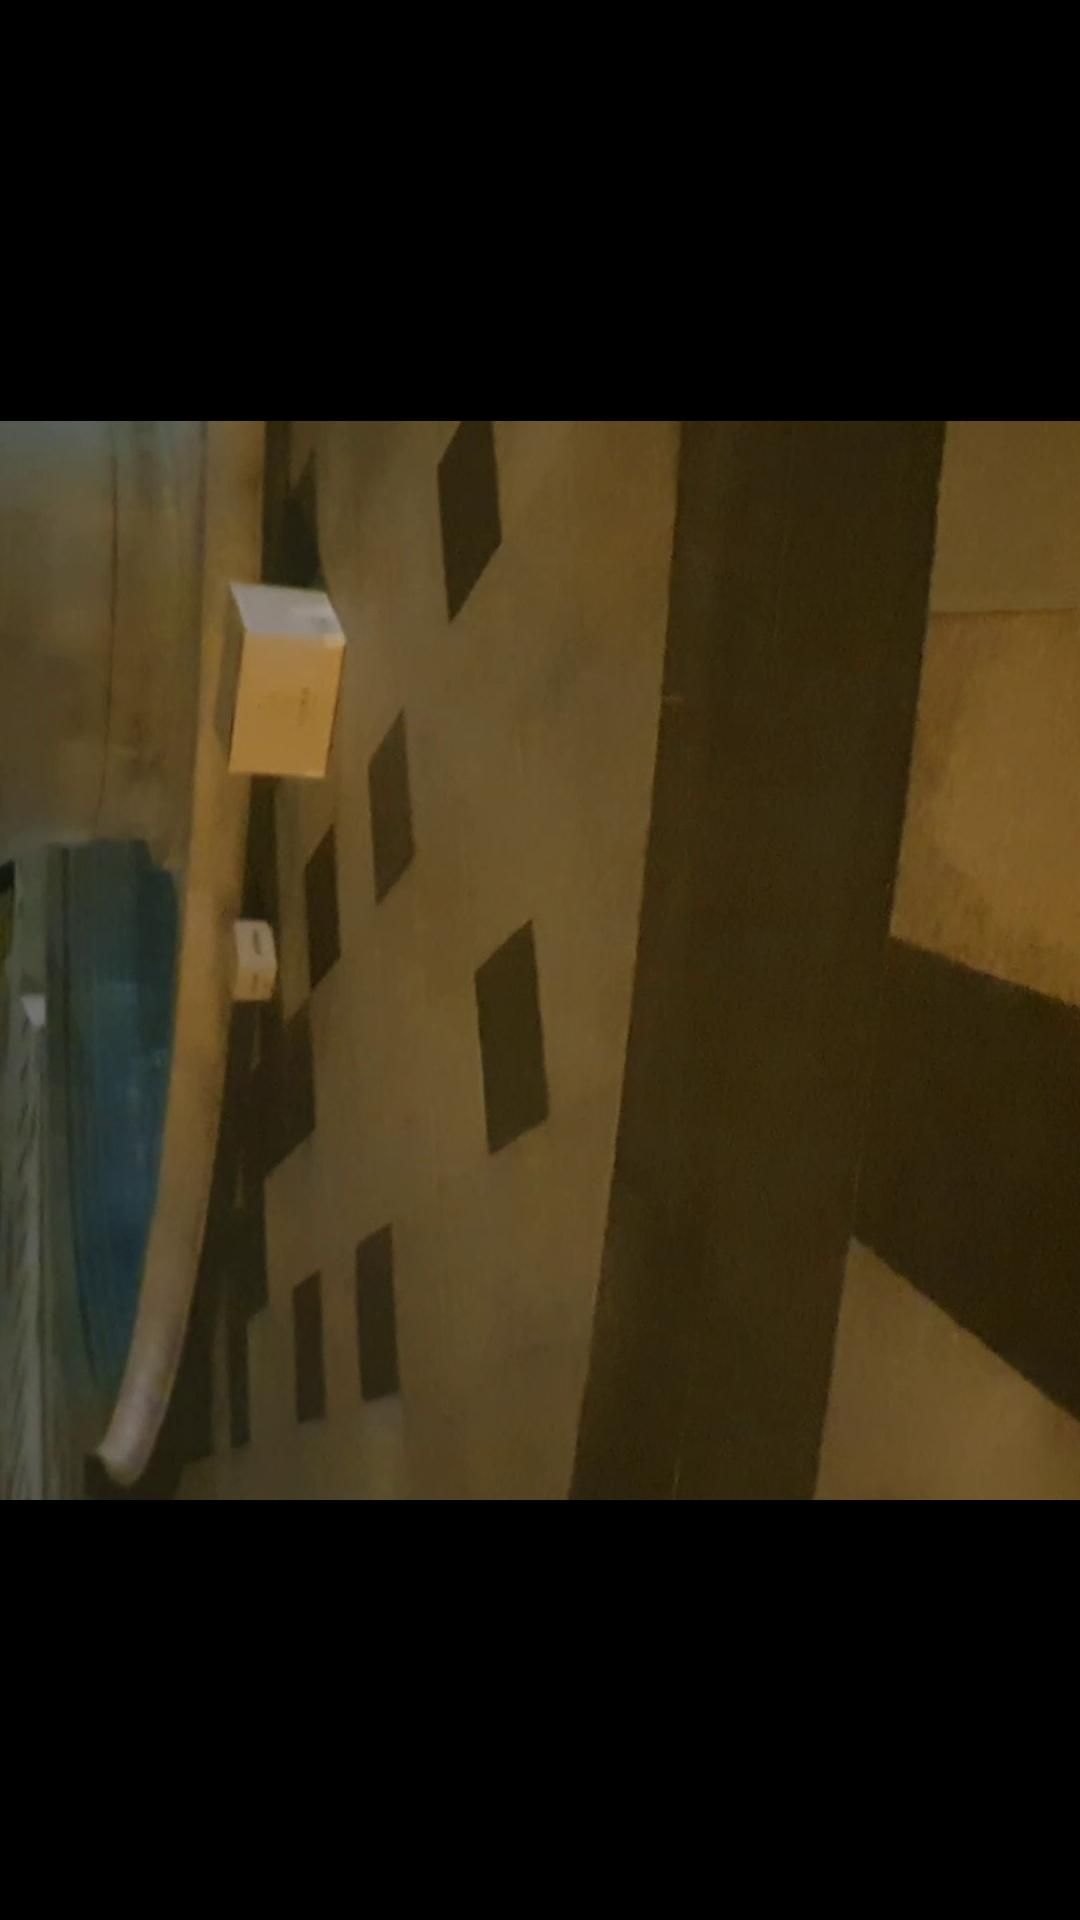Box: (200, 570, 347, 779), (210, 923, 277, 1007)
